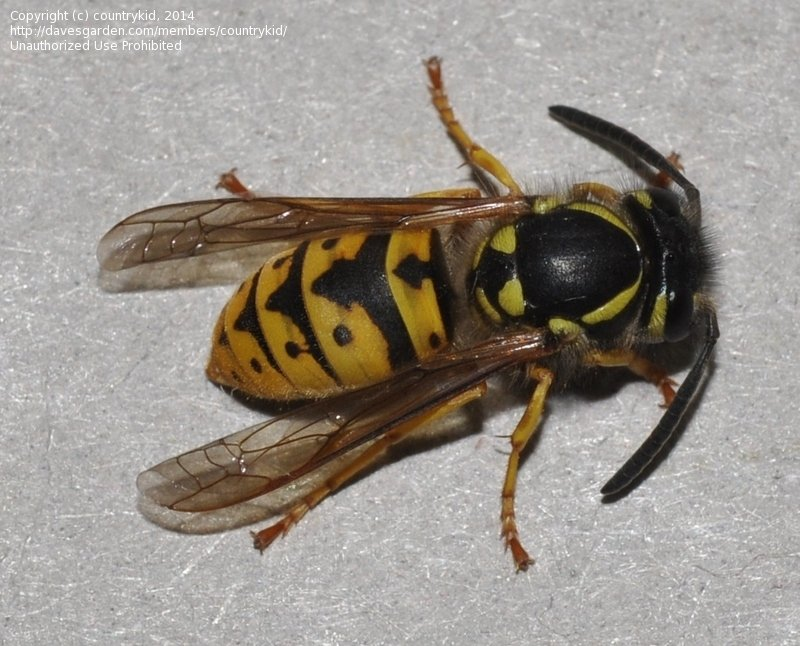chax: (79, 58, 729, 594)
